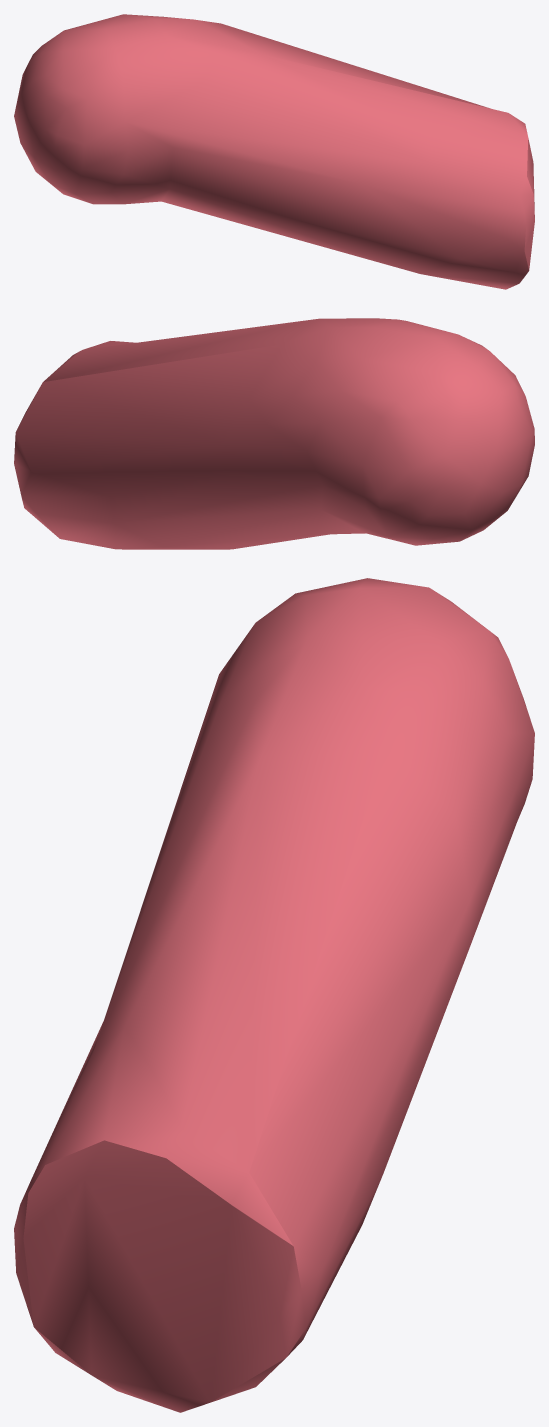
Rendered from fma4685.glb.
The picture shows the model from 3 angles, top to bottom: view 1: azimuth 30°, elevation 25°; view 2: azimuth 150°, elevation 25°; view 3: azimuth 270°, elevation 25°; orthographic projection. The views are drawn at different scales.
Visible parts, largest first — view 1: FMA4685; view 2: FMA4685; view 3: FMA4685.
Boxes of the visible parts, x1,y1,x2,y2 form: FMA4685: [14, 14, 534, 289]; FMA4685: [14, 318, 534, 549]; FMA4685: [14, 578, 534, 1412].
Size of the model in its own units: 0.0111 by 0.00691 by 0.00623.
